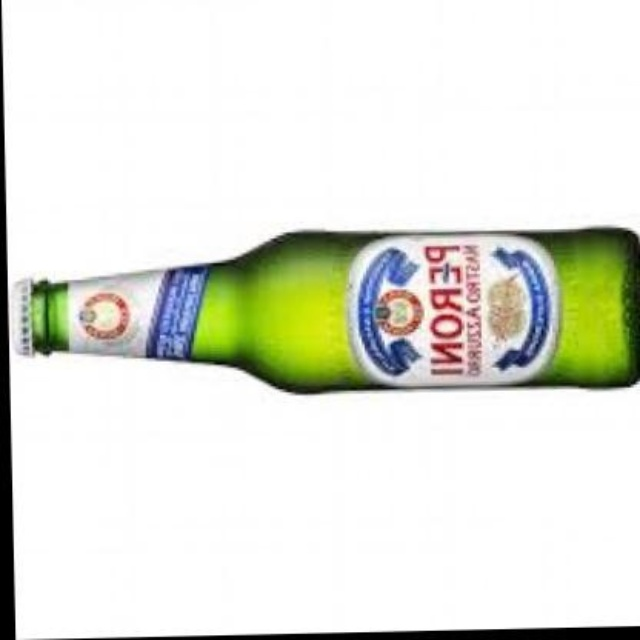trash: (12, 228, 638, 391)
